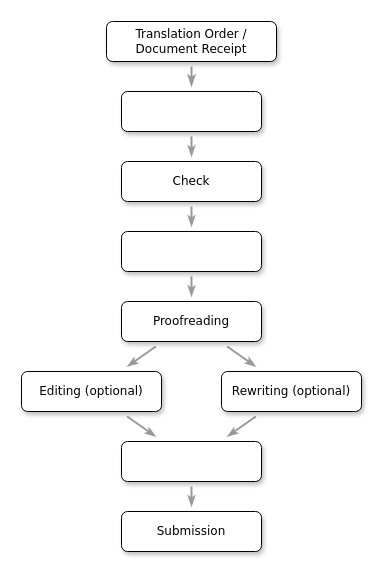
The diagram is 385 pixels wide and 576 high, and some of its shapes have lost their labels. The shapes that lost their labels are listed below. From the top down, each one's centre as x and y in pixels, then its label:
the point at 192,112: Translation
the point at 192,252: Review
the point at 192,462: DTP (optional)
